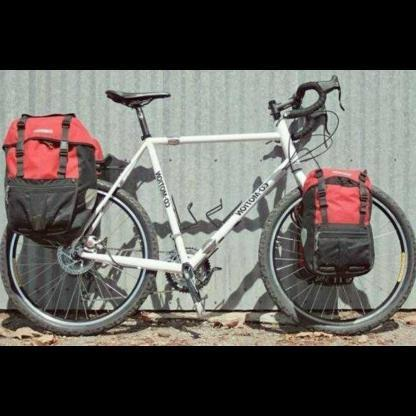Bicycle: (0, 78, 413, 342)
